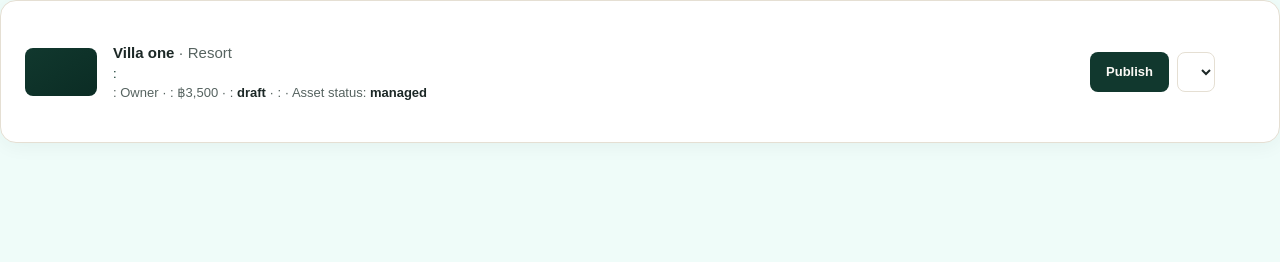
Test: publication action feedback › shows the canonical refusal, never reports success, and permits retry
Click the button "Publish": (1130, 72) [1090, 52, 1169, 92]
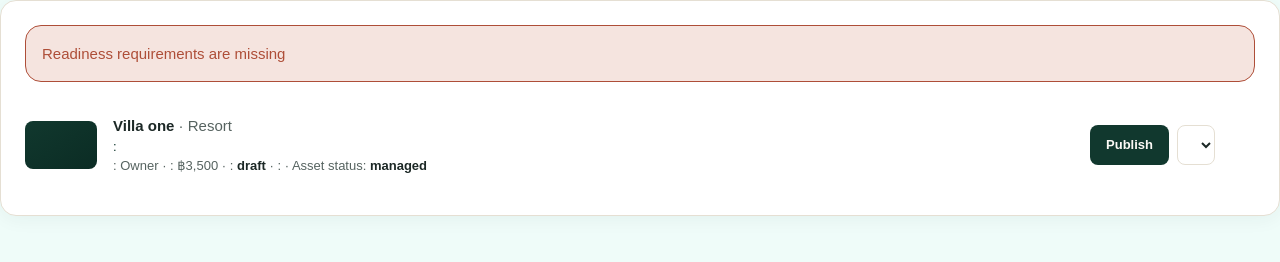
Expected: the message reads "Readiness requirements are missing", [42, 45, 286, 62]
Click the button "Publish": (1130, 144) [1090, 124, 1169, 164]
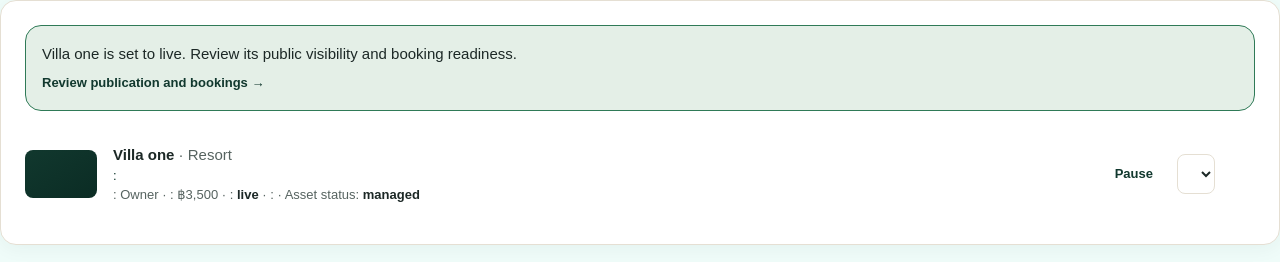
Expected: the message shows "Villa one", [42, 45, 517, 62]
